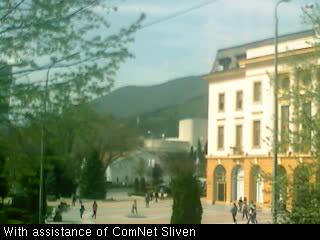person: (249, 203, 257, 224), (230, 203, 238, 222), (130, 199, 138, 216), (91, 200, 98, 219), (242, 197, 248, 219), (248, 209, 256, 224), (144, 193, 150, 208), (79, 204, 85, 219), (238, 197, 243, 211), (72, 192, 76, 206), (150, 191, 154, 202), (155, 191, 158, 205)
